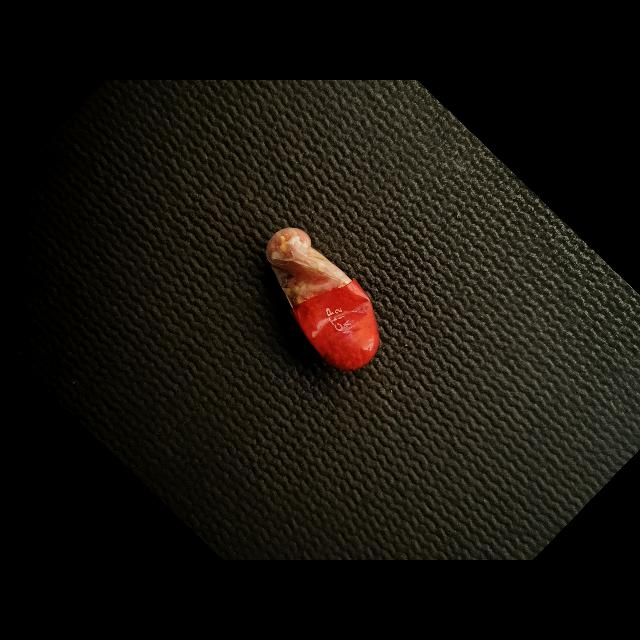Defective Capsule: (266, 227, 379, 371)
